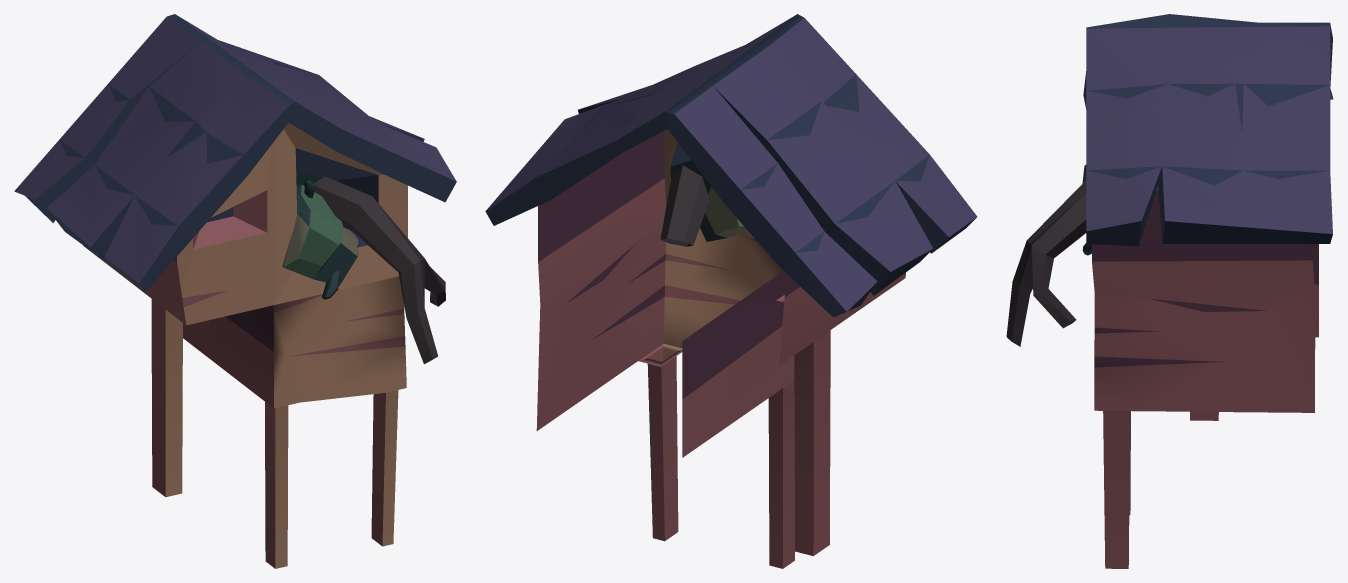
File: дек7.fbx
3 views of the same model, side by side, from view 1: azimuth 30°, elevation 25°; view 2: azimuth 150°, elevation 25°; view 3: azimuth 270°, elevation 25° (orthographic). The views are drawn at different scales.
Parts seen in each view (by area): view 1: pCylinder39; view 2: pCylinder39; view 3: pCylinder39.
Boxes of the visible parts, x1,y1,x2,y2 form: pCylinder39: (14, 14, 456, 568); pCylinder39: (485, 14, 977, 568); pCylinder39: (1006, 14, 1333, 568).
Bounding box in the file's own units: 4.92 × 6.78 × 4.08.
